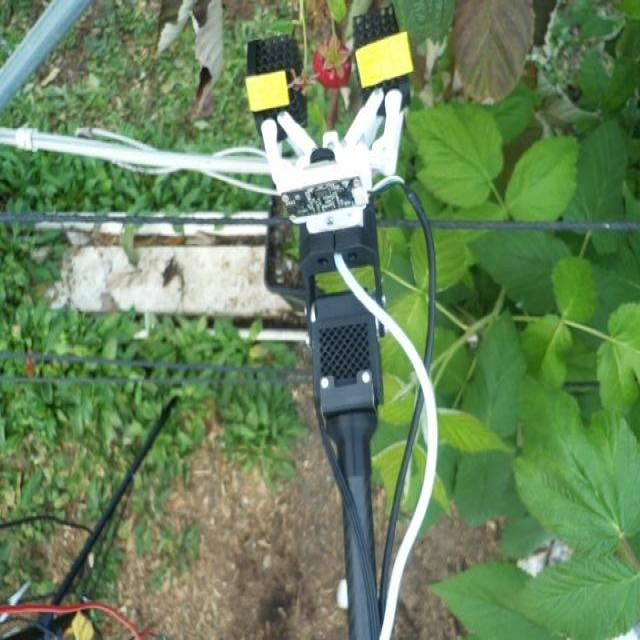Riped berries: (309, 34, 353, 90)
